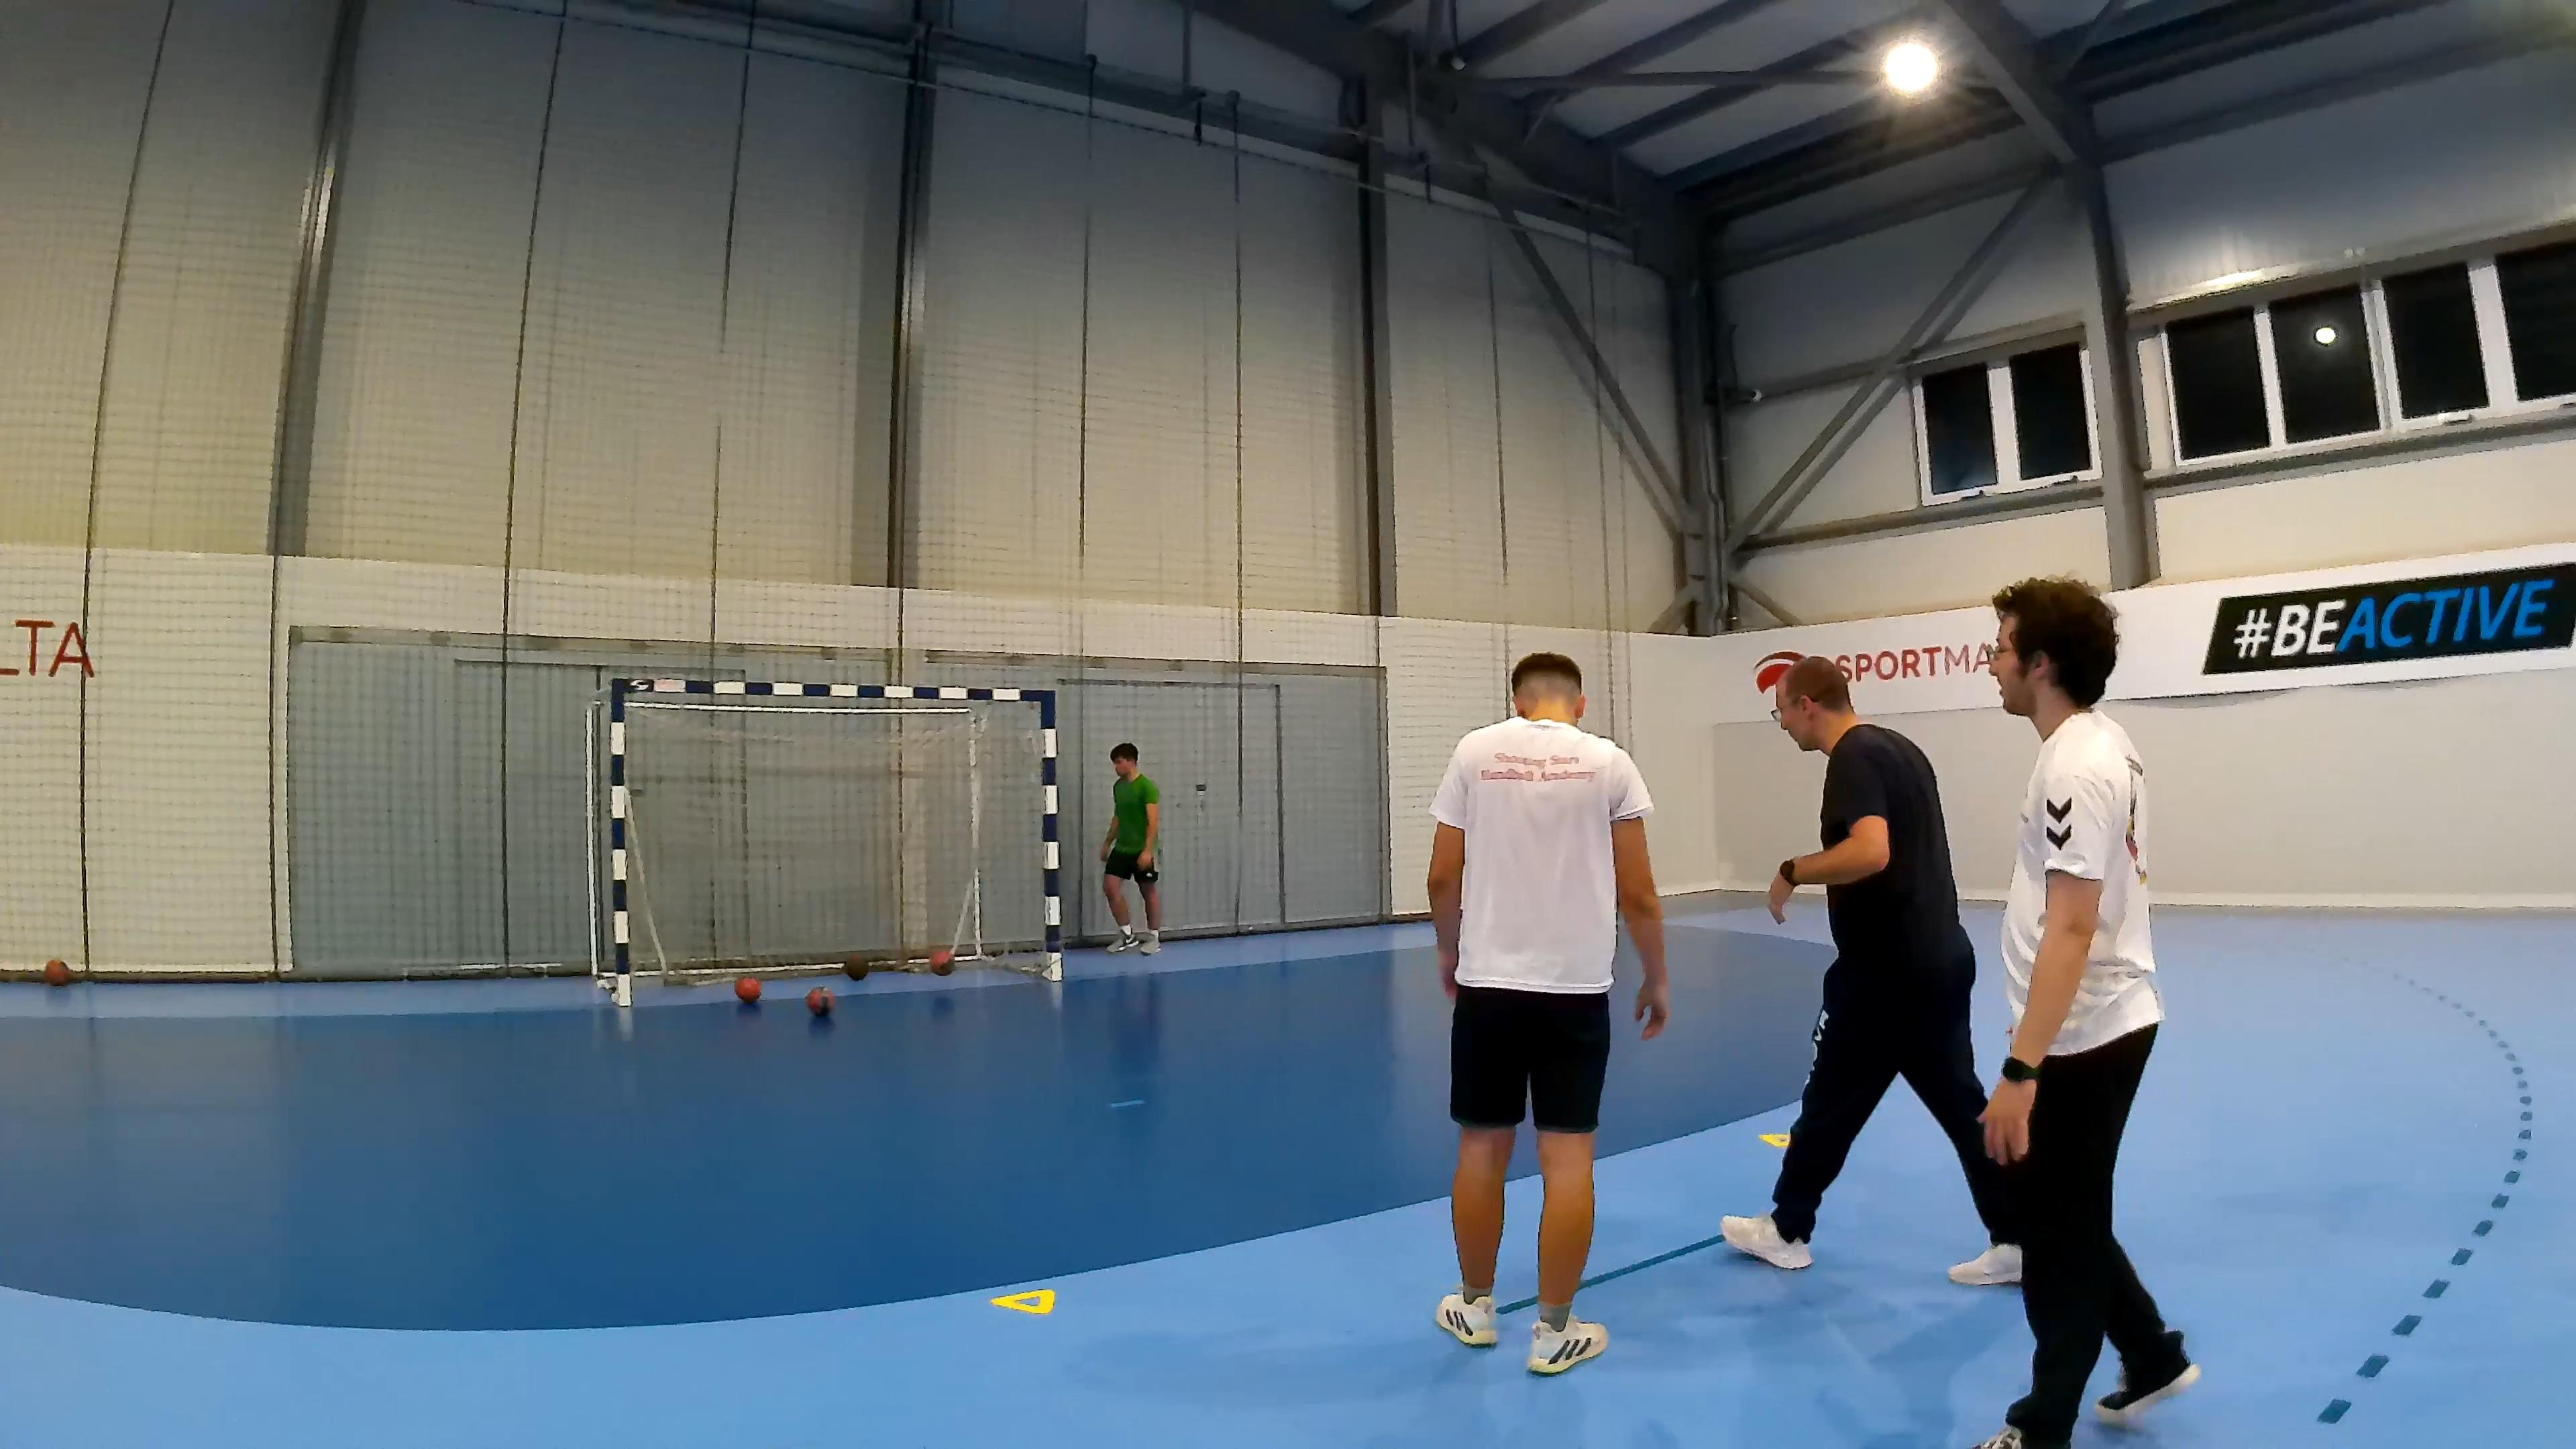handball: (805, 985, 833, 1014), (734, 975, 761, 1001), (842, 952, 867, 980), (929, 947, 954, 975)
